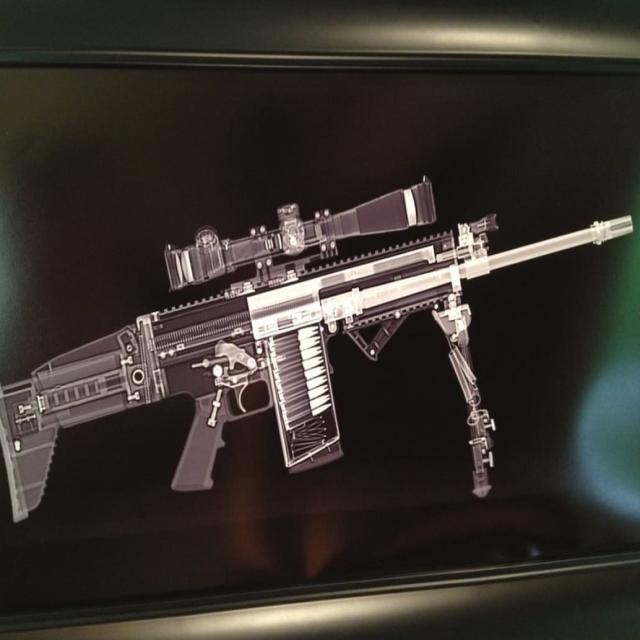Gun: (0, 165, 640, 560)
